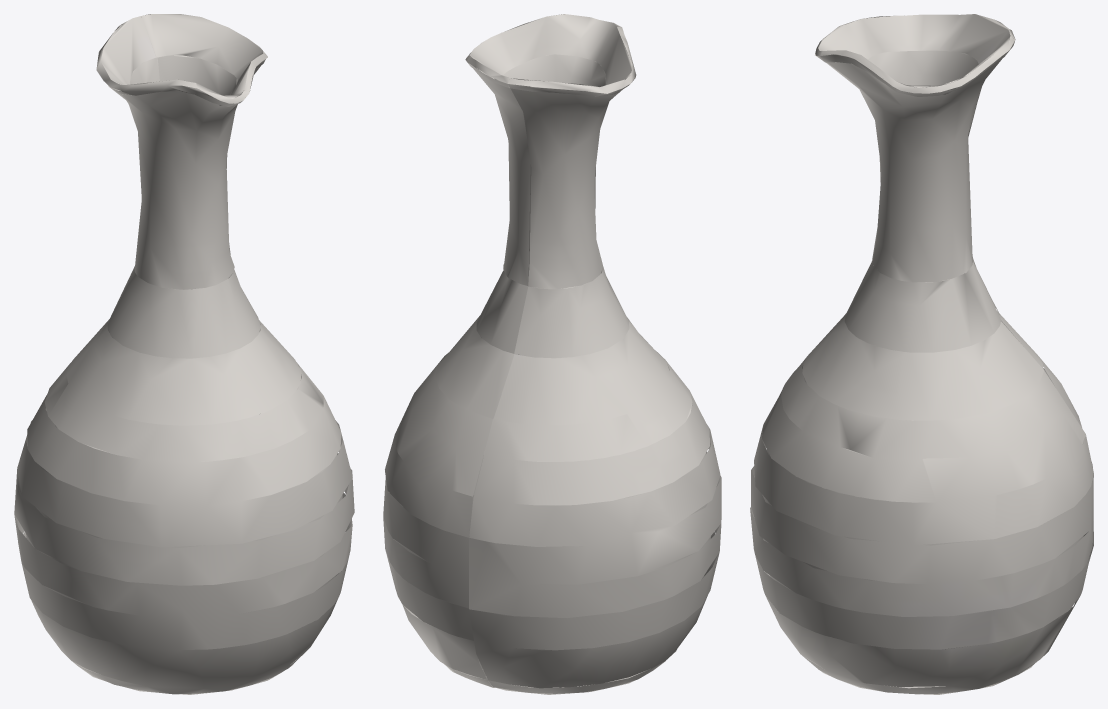
The model's file is vase_bulb.glb.
3 renders of one model, left to right at view 1: azimuth 30°, elevation 25°; view 2: azimuth 150°, elevation 25°; view 3: azimuth 270°, elevation 25°, orthographic.
Visible parts, largest first — view 1: vase_bulb; view 2: vase_bulb; view 3: vase_bulb.
Part boxes in pixels (left/top/right/bottom): vase_bulb: left=14, top=14, right=354, bottom=694; vase_bulb: left=383, top=14, right=721, bottom=694; vase_bulb: left=750, top=14, right=1093, bottom=694.
Size of the model in its own units: 0.205 by 0.4005 by 0.2034.
Materials: 1 (1 with a texture image).
